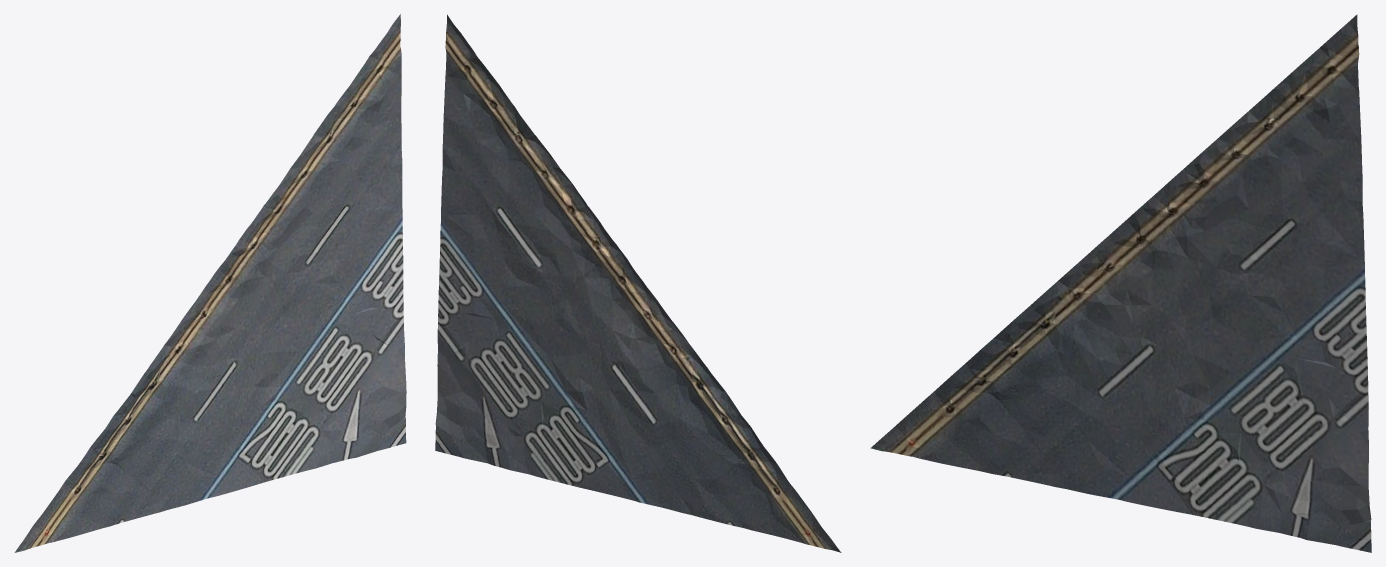
The model's file is Tile_+000_+003.obj_deoffset.glb.
The picture shows the model from 3 angles, left to right: view 1: azimuth 30°, elevation 25°; view 2: azimuth 150°, elevation 25°; view 3: azimuth 330°, elevation 25°; orthographic projection. The views are drawn at different scales.
Visible parts, largest first — view 1: Node; view 2: Node; view 3: Node.
Part boxes in pixels (x1=…): Node: x1=14, y1=14, x2=406, y2=552; Node: x1=435, y1=14, x2=841, y2=552; Node: x1=870, y1=14, x2=1371, y2=552.
Bounding box in the file's own units: 19.07 × 20.26 × 0.5858.
1 material, 1 textured.
